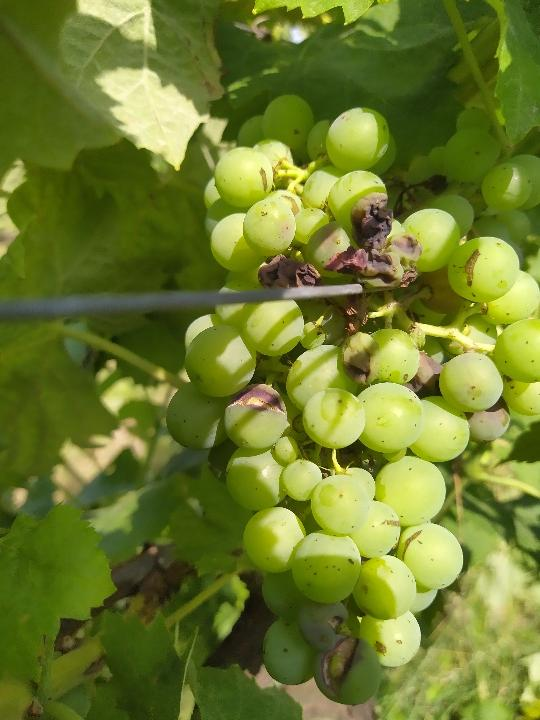grape: (162, 94, 533, 710)
